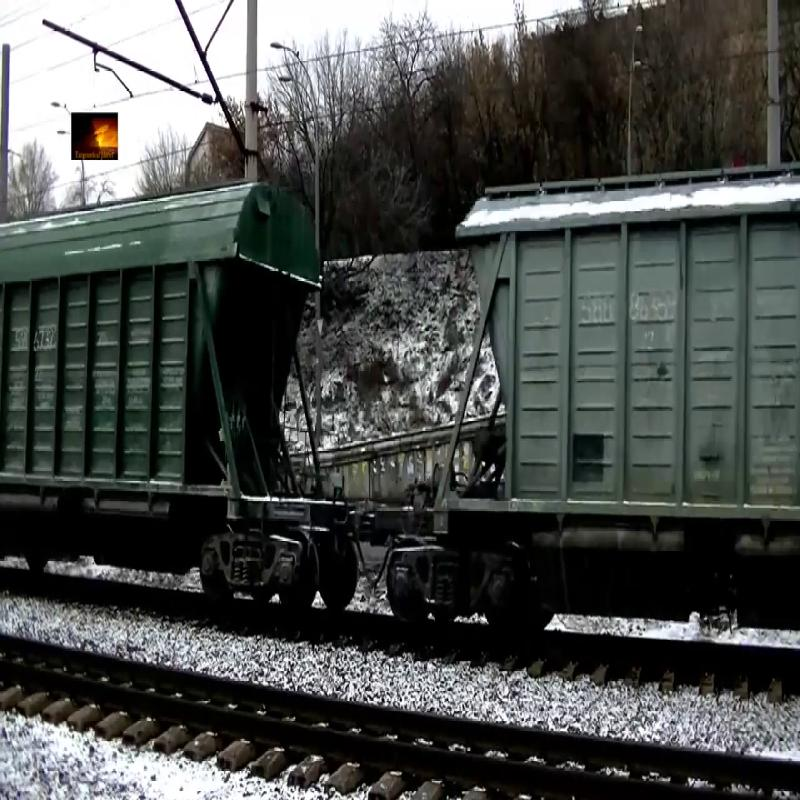train: (431, 157, 800, 553), (1, 172, 327, 542)
